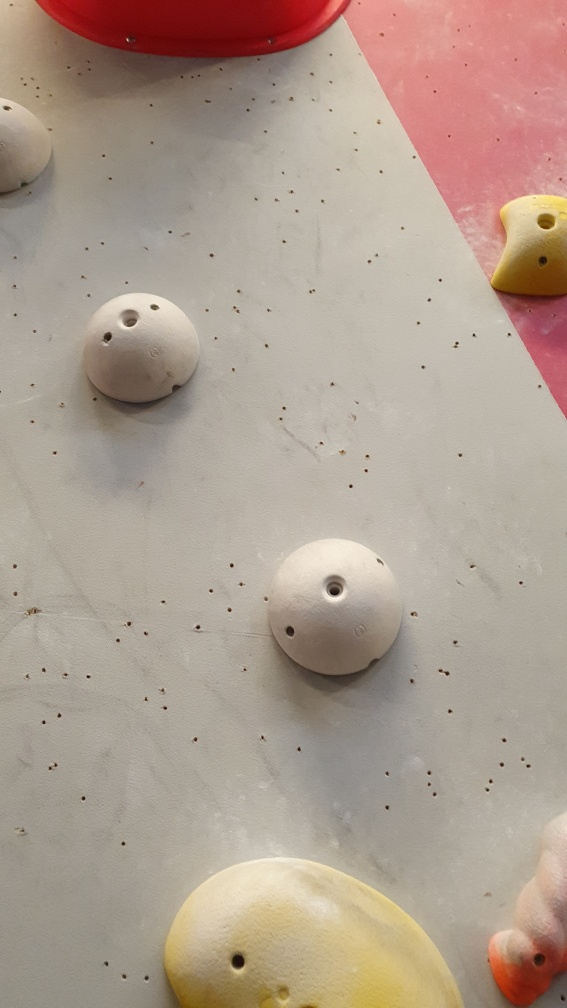Jug: (490, 813, 567, 1007)
Pinch: (488, 196, 567, 298)
Sloper: (266, 532, 410, 684), (83, 289, 205, 406), (1, 94, 59, 195)
